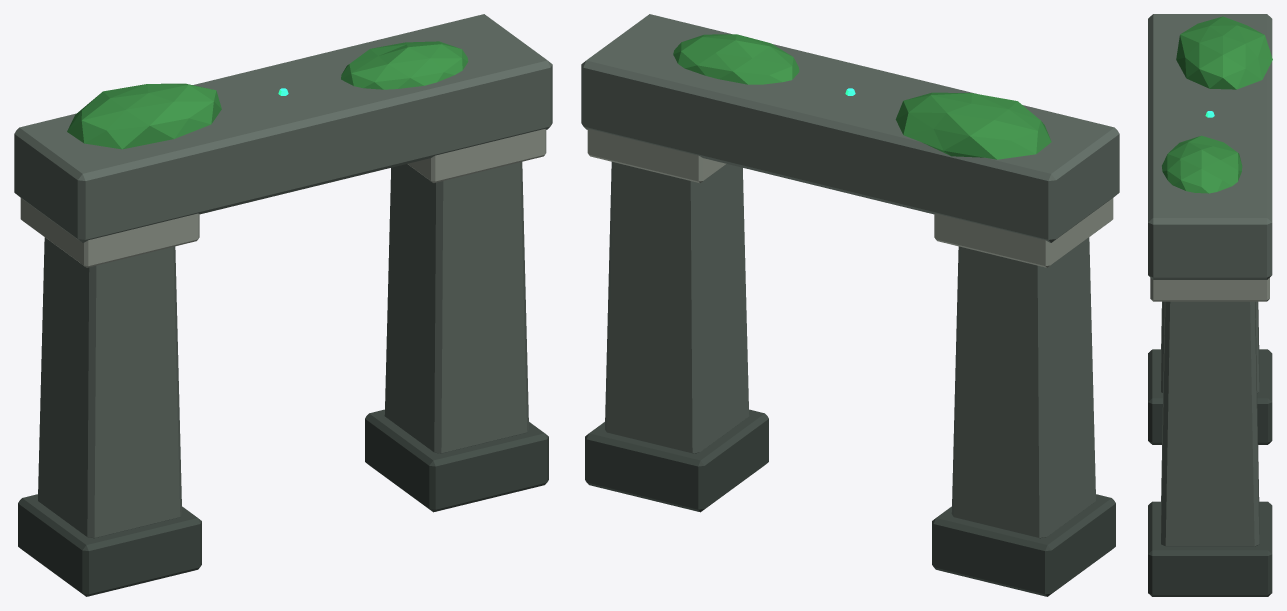
Rendered from EM_AncientRuinArch.glb.
3 renders of one model, left to right at view 1: azimuth 30°, elevation 25°; view 2: azimuth 150°, elevation 25°; view 3: azimuth 270°, elevation 25°, orthographic. The views are drawn at different scales.
Visible parts, largest first — view 1: EM_AncientRuinArch__StoneBase, EM_AncientRuinArch__StoneDark, EM_AncientRuinArch__MossCap, EM_AncientRuinArch__StoneLight; view 2: EM_AncientRuinArch__StoneBase, EM_AncientRuinArch__StoneDark, EM_AncientRuinArch__MossCap, EM_AncientRuinArch__StoneLight; view 3: EM_AncientRuinArch__StoneBase, EM_AncientRuinArch__StoneDark, EM_AncientRuinArch__MossCap, EM_AncientRuinArch__StoneLight.
Part boxes in pixels (x1,y1,x2,y2): EM_AncientRuinArch__StoneBase: [14, 14, 552, 538]; EM_AncientRuinArch__StoneDark: [18, 409, 548, 596]; EM_AncientRuinArch__MossCap: [67, 41, 468, 149]; EM_AncientRuinArch__StoneLight: [20, 129, 546, 267]; EM_AncientRuinArch__StoneBase: [581, 14, 1119, 538]; EM_AncientRuinArch__StoneDark: [585, 409, 1115, 596]; EM_AncientRuinArch__MossCap: [673, 34, 1051, 159]; EM_AncientRuinArch__StoneLight: [587, 129, 1113, 267]; EM_AncientRuinArch__StoneBase: [1148, 14, 1272, 546]; EM_AncientRuinArch__StoneDark: [1148, 349, 1272, 596]; EM_AncientRuinArch__MossCap: [1162, 16, 1272, 193]; EM_AncientRuinArch__StoneLight: [1150, 278, 1269, 301].
Bounding box in the file's own units: 23 × 20.84 × 5.83.
